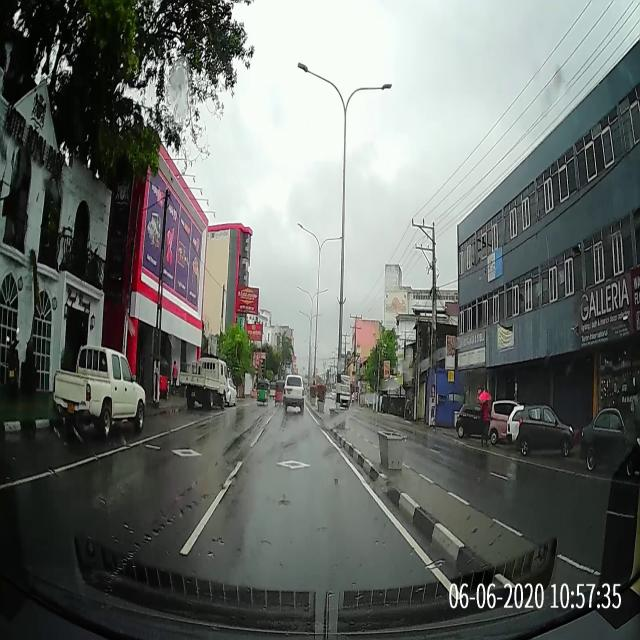diamond: (225, 443, 369, 482)
